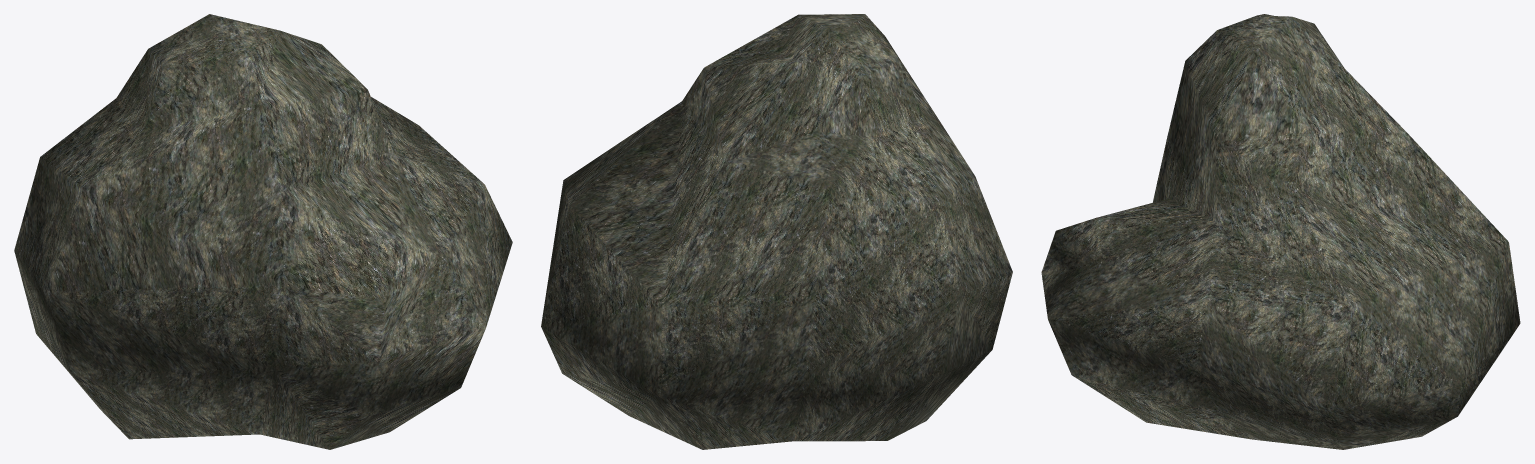
The model's file is mtns_rock_grey_a6_l0.fbx.
3 views of the same model, side by side, from view 1: azimuth 30°, elevation 25°; view 2: azimuth 150°, elevation 25°; view 3: azimuth 270°, elevation 25° (orthographic). The views are drawn at different scales.
Visible parts, largest first — view 1: mesh_node; view 2: mesh_node; view 3: mesh_node.
Part boxes in pixels (x1=…): mesh_node: x1=14, y1=14, x2=512, y2=449; mesh_node: x1=541, y1=14, x2=1012, y2=449; mesh_node: x1=1041, y1=14, x2=1520, y2=449.
Bounding box in the file's own units: 5.62 × 4.84 × 5.73.
Materials: 1 (1 with a texture image).
